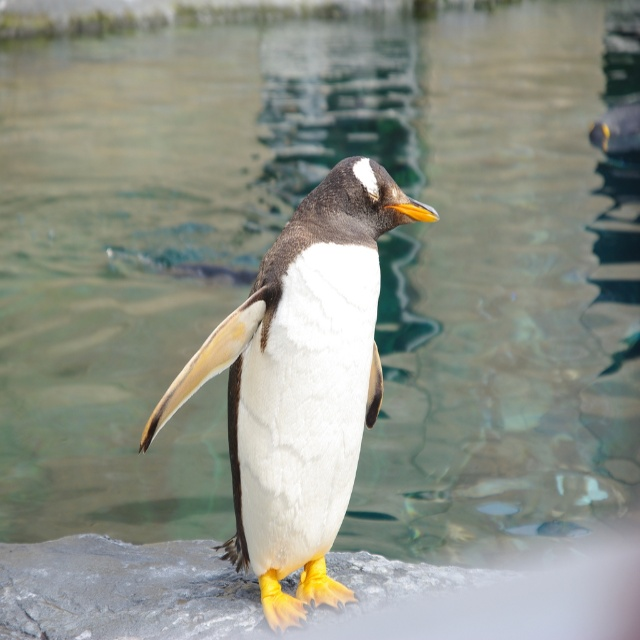Penguin: (136, 157, 440, 637), (588, 105, 640, 158)
